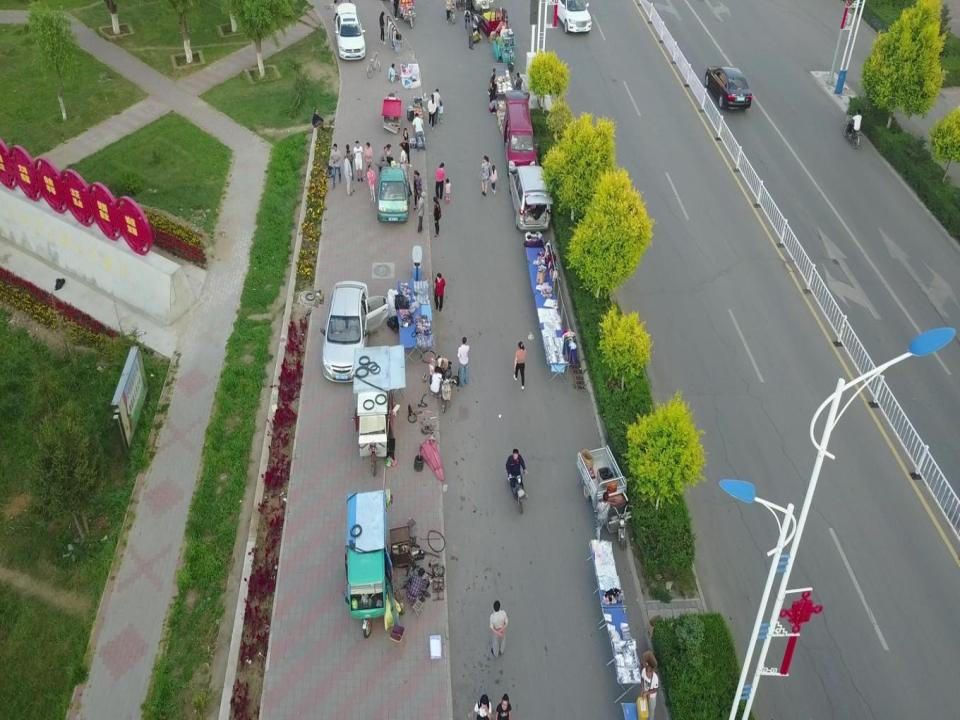car: (704, 64, 752, 111), (330, 5, 365, 60), (552, 0, 592, 34)
van: (324, 282, 368, 382), (509, 165, 552, 233), (502, 90, 536, 168)
